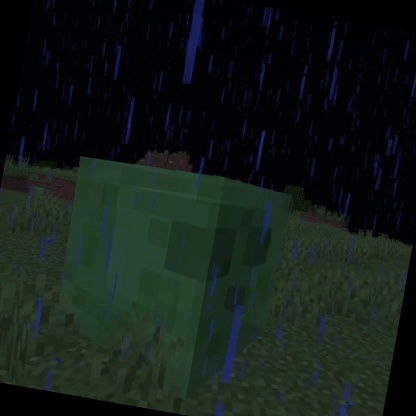slime: (34, 147, 300, 416)
